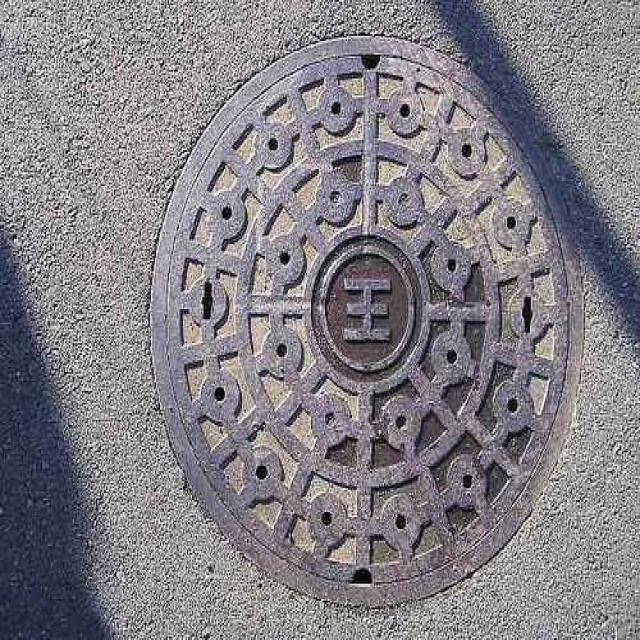manhole: (151, 37, 582, 606)
